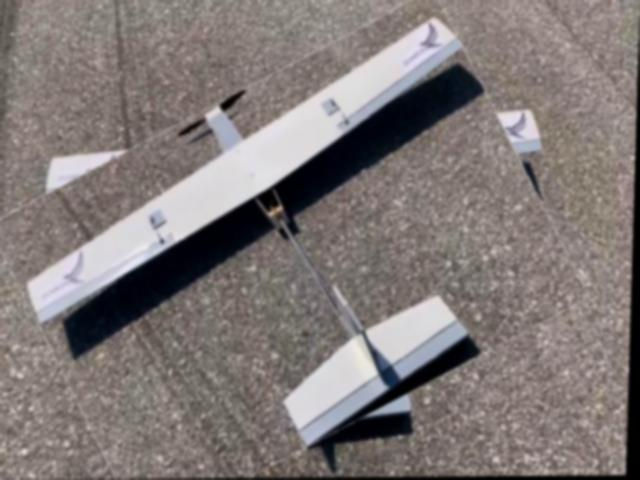insansiz-hava-araci: (11, 37, 571, 480)
